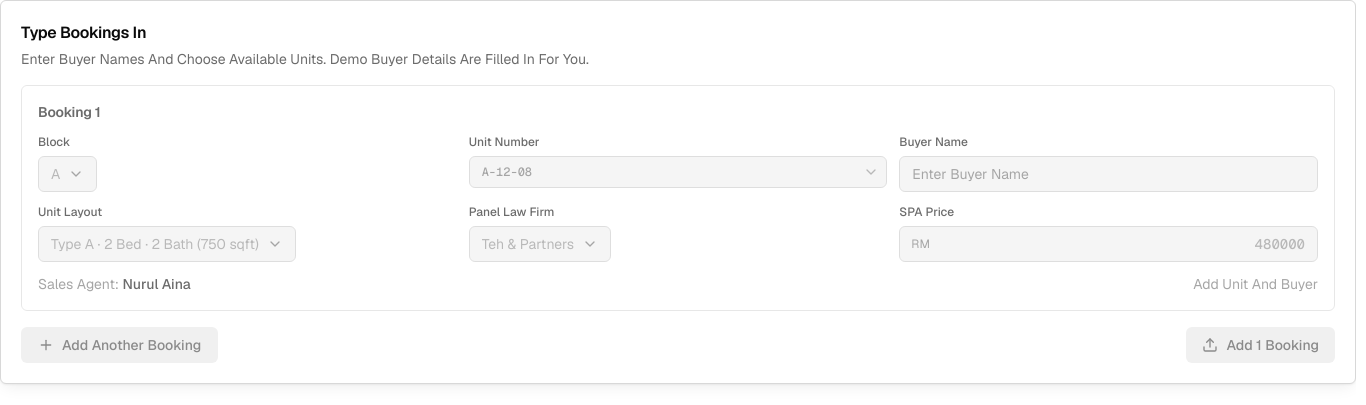
Test: DirectTableImport › rejects malformed unit numbers and SPA prices below the booking minimum
Type "A-foo-12" into the dropdown labelled "Unit Number" at (678, 172), box [469,156,887,188]
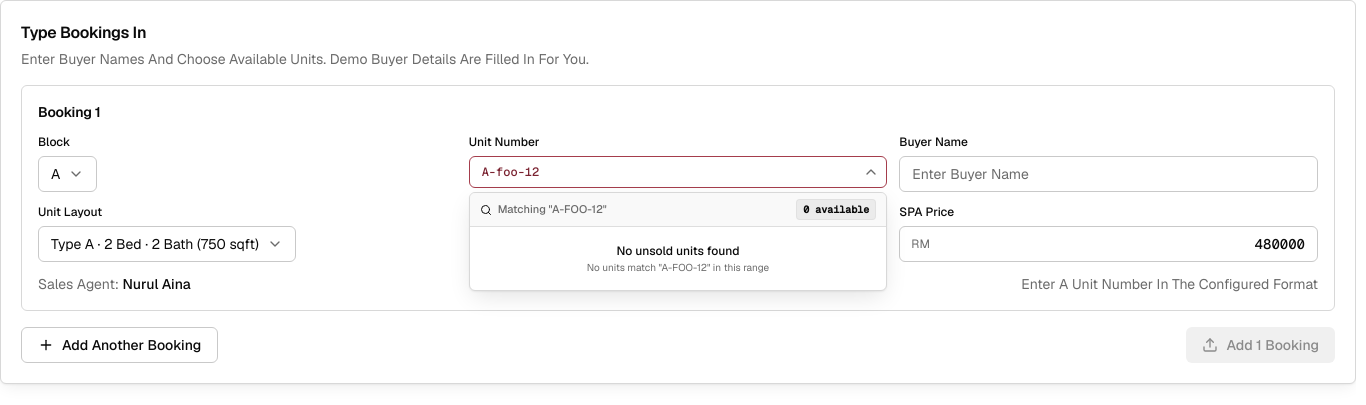
Type "Sample Buyer" into the field labelled "Buyer Name" at (1109, 174), box [899,156,1318,192]
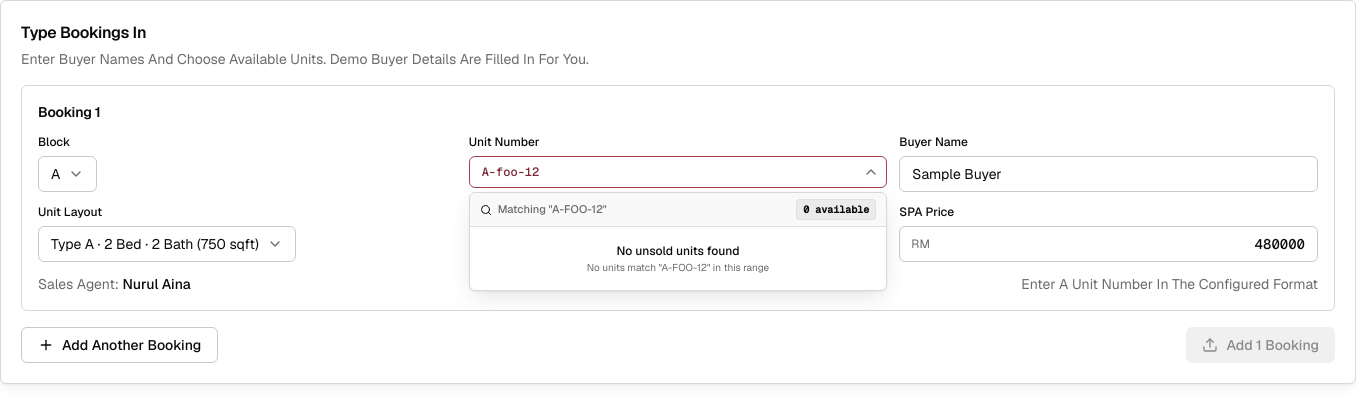
Expected: the button "Add 1 Booking" is disabled, [1186,327,1335,363]
Expected: the text "Enter A Unit Number In The Configured Format" is shown, [1021,274,1318,294]
Replace the text in the dropdown labelled "Unit Number" with "A-1-1" at (678, 172), box [469,156,887,188]
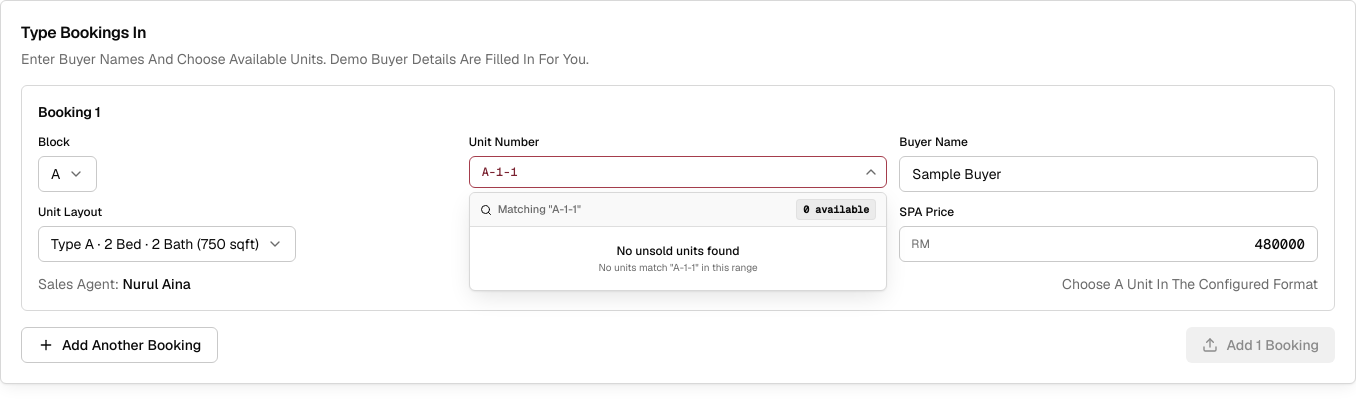
Expected: the button "Add 1 Booking" is disabled, [1186,327,1335,363]
Expected: the text "Choose A Unit In The Configured Format" is shown, [1062,274,1318,294]
Replace the text in the dropdown labelled "Unit Number" with "A-20-08" at (678, 172), box [469,156,887,188]
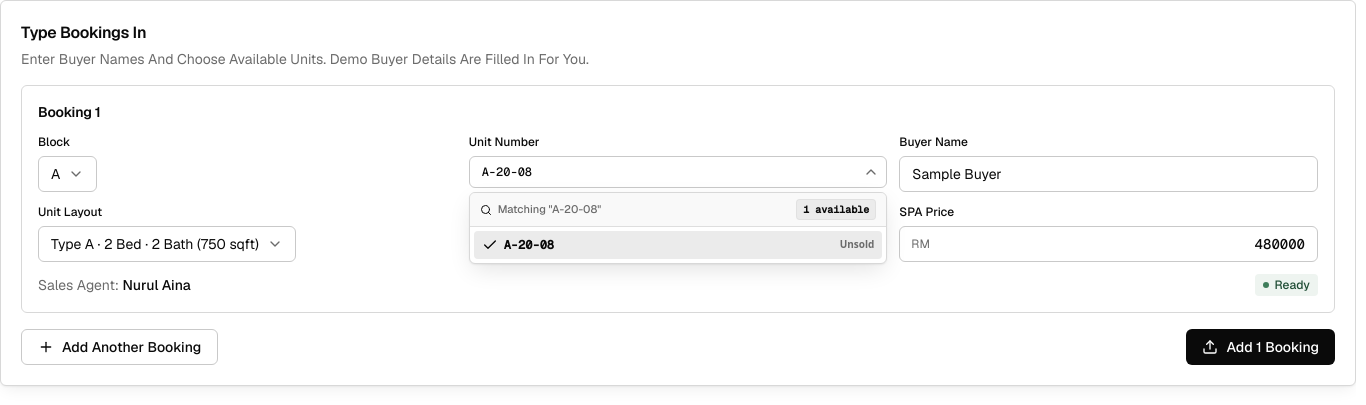
Replace the text in the field labelled "SPA Price" with "9999" at (1109, 244), box [899,226,1318,262]
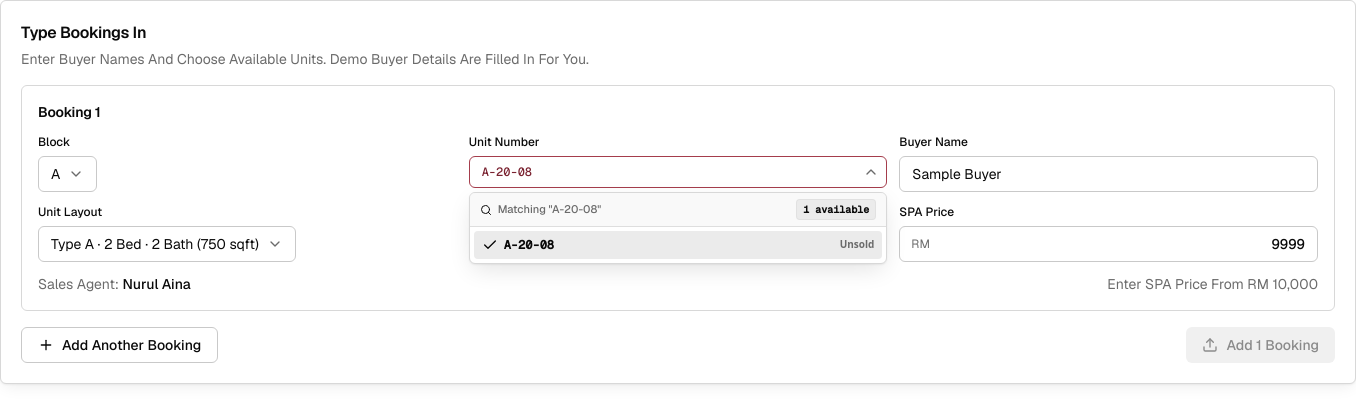
Expected: the text "Enter SPA Price From RM 10,000" is shown, [1107,274,1318,294]
Expected: the button "Add 1 Booking" is disabled, [1186,327,1335,363]
